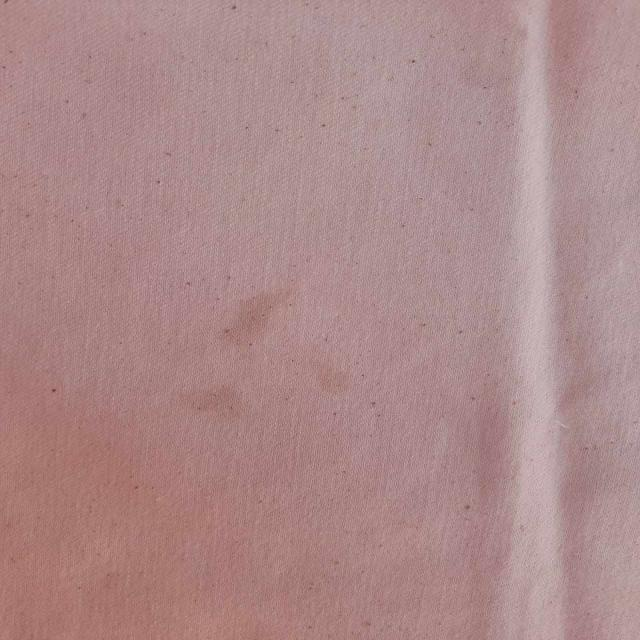taaaches: (211, 277, 285, 348), (171, 363, 247, 422), (309, 357, 369, 395)
